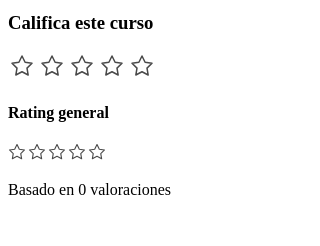
Scenario: RatingSection Component › shows success message after rating saved
Click the button named "Rate 4 stars". click: (112, 66)
box: [98,52,126,80]
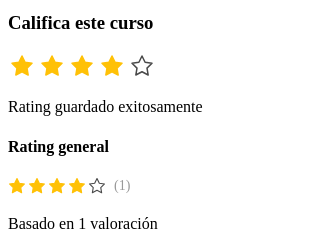
Check: the text "Rating guardado exitosamente" is shown, box [8,98,203,115]
